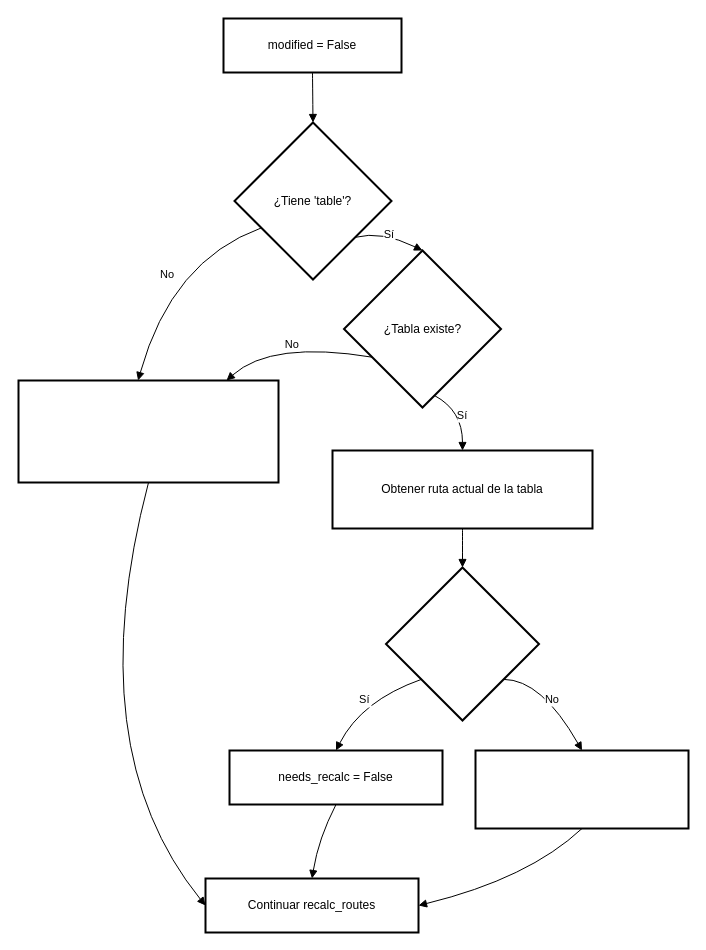
The diagram is 706 pixels wide and 950 high, and some of its shapes have lost their labels. Here are the shapes that lost their labels. From the top down, the box of each, then its label:
(17, 379, 279, 483): needs_recalc = True Imprimir: sin tabla o tabla inexistente
(384, 566, 540, 721): ¿Ruta válida?
(474, 749, 689, 829): needs_recalc = True Imprimir: ruta inválida
